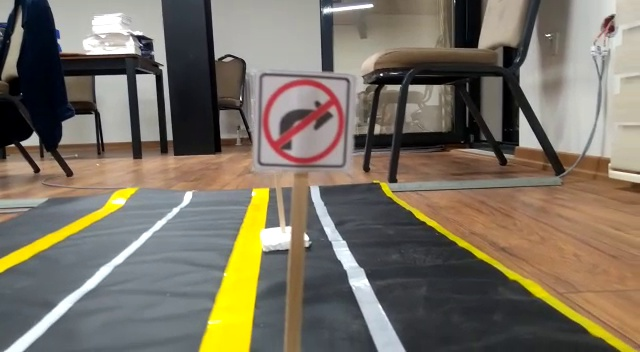saga_donulmez: (263, 73, 348, 171)
